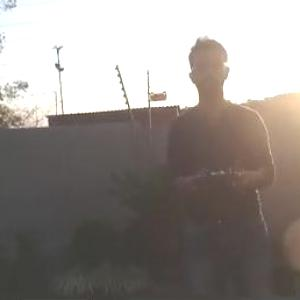follow: (158, 29, 280, 299)
